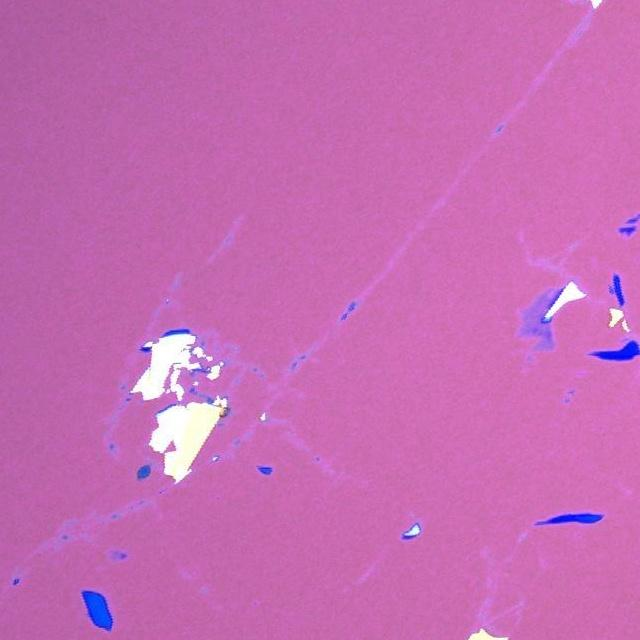monolayer-eWW4: (514, 290, 554, 354)
